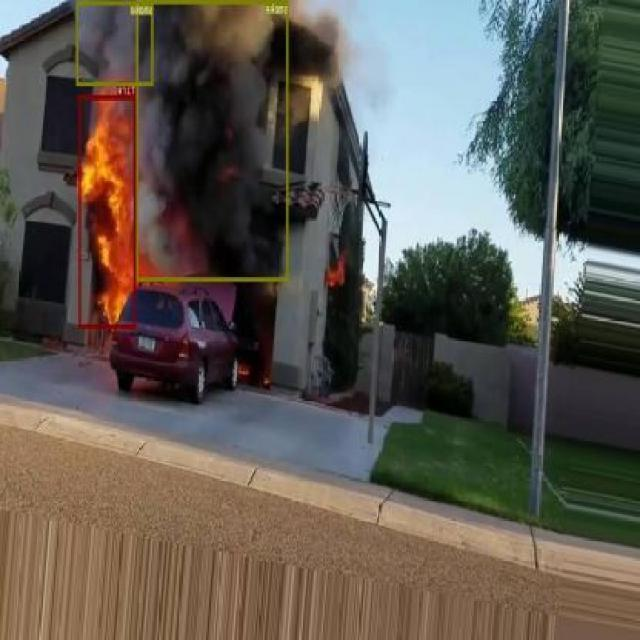Fire: (79, 95, 136, 328)
Smoke: (136, 0, 290, 280), (77, 1, 154, 85)
